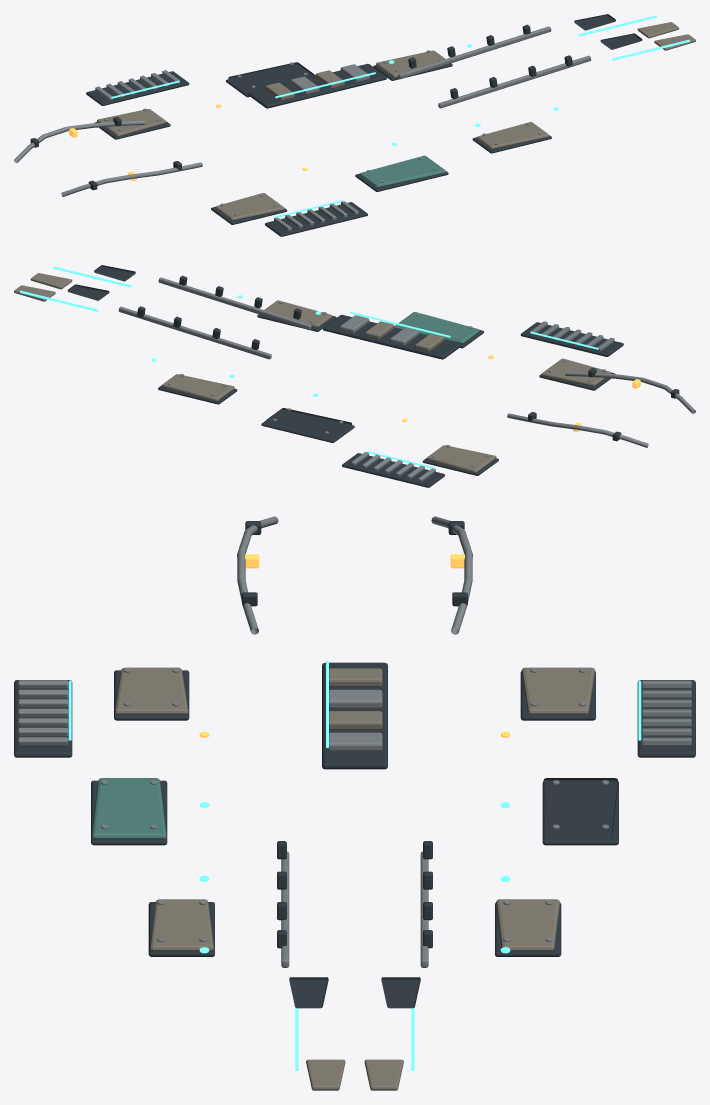
Rendered from kestrel-detail-overlay.glb.
3 renders of one model, top to bottom at view 1: azimuth 30°, elevation 25°; view 2: azimuth 150°, elevation 25°; view 3: azimuth 270°, elevation 25°, orthographic. The views are drawn at different scales.
Parts seen in each view (by area): view 1: StationDetail_Armor, StationDetail_BrushedMetal, StationDetail_WarmArmor, StationDetail_RepairGreen, StationDetail_CyanSignal; view 2: StationDetail_Armor, StationDetail_BrushedMetal, StationDetail_WarmArmor, StationDetail_RepairGreen, StationDetail_CyanSignal; view 3: StationDetail_Armor, StationDetail_WarmArmor, StationDetail_BrushedMetal, StationDetail_RepairGreen, StationDetail_CyanSignal.
Boxes of the visible parts, x1=… form: StationDetail_Armor: x1=30, y1=14, x2=642, y2=236; StationDetail_BrushedMetal: x1=14, y1=26, x2=591, y2=231; StationDetail_WarmArmor: x1=97, y1=22, x2=695, y2=220; StationDetail_RepairGreen: x1=359, y1=155, x2=445, y2=187; StationDetail_CyanSignal: x1=111, y1=15, x2=689, y2=217; StationDetail_Armor: x1=67, y1=265, x2=679, y2=487; StationDetail_BrushedMetal: x1=118, y1=277, x2=695, y2=482; StationDetail_WarmArmor: x1=14, y1=273, x2=611, y2=473; StationDetail_RepairGreen: x1=394, y1=312, x2=479, y2=343; StationDetail_CyanSignal: x1=20, y1=266, x2=598, y2=468; StationDetail_Armor: x1=14, y1=521, x2=695, y2=1008; StationDetail_WarmArmor: x1=114, y1=667, x2=595, y2=1090; StationDetail_BrushedMetal: x1=18, y1=516, x2=691, y2=967; StationDetail_RepairGreen: x1=91, y1=778, x2=166, y2=839; StationDetail_CyanSignal: x1=68, y1=660, x2=641, y2=1070.
Size of the model in its own units: 23.17 by 2.07 by 12.14.
